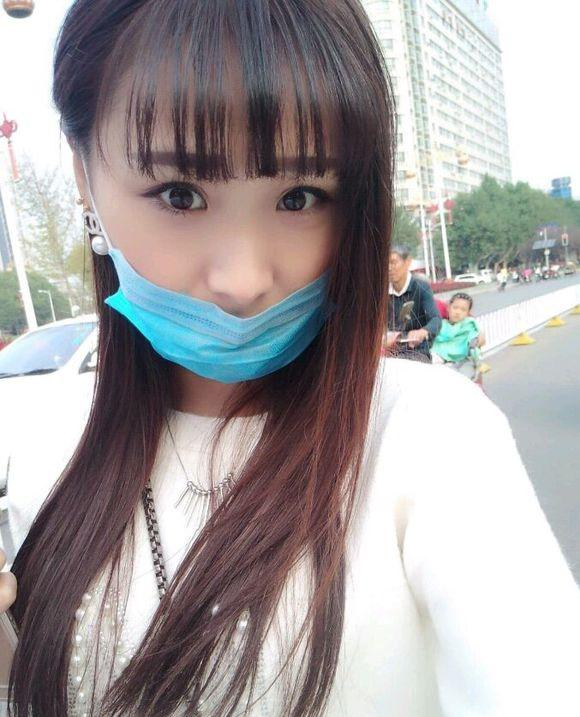NONE: (384, 256, 405, 281), (450, 303, 468, 324)
WRONG: (100, 133, 351, 384)
